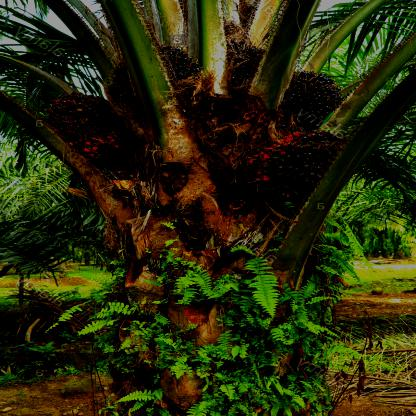1: (246, 129, 343, 200), (45, 90, 123, 166)
palm-oil: (112, 42, 201, 103), (275, 70, 345, 130), (223, 38, 270, 90)
